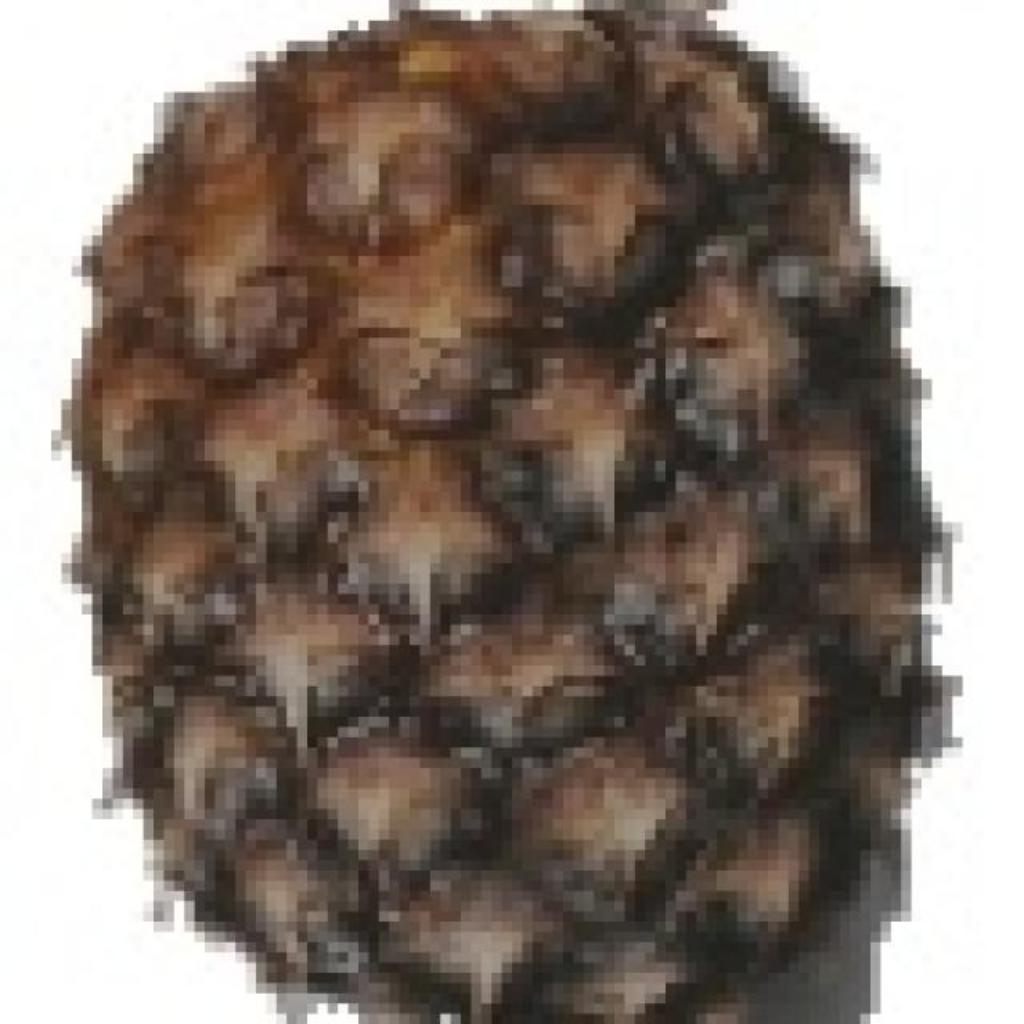pineapple: (70, 0, 948, 1024)
